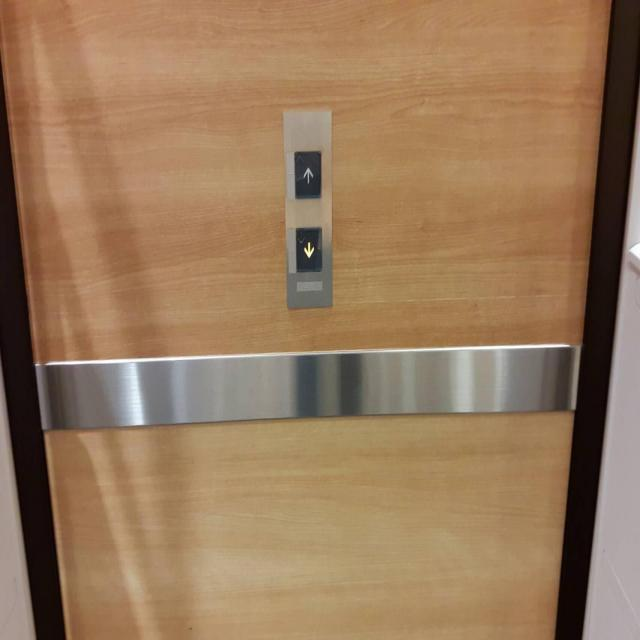down: (295, 226, 323, 274)
up: (294, 150, 322, 200)
